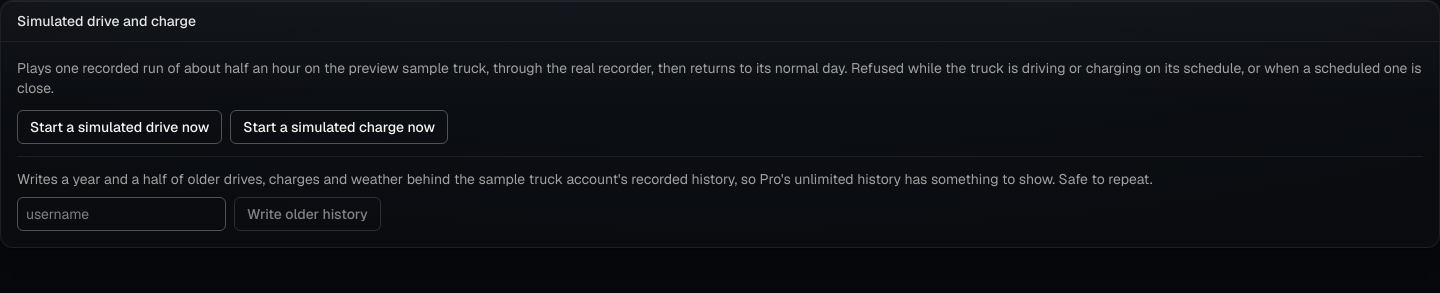
Test case: the preview's simulated drive and charge card › writes the older history for the typed account and says how much
This screenshot has width=1440, height=293.
Check: the button "Write older history" is disabled, box x1=234 y1=197 x2=381 y2=231
Type " sample-truck " into the field named "Sample truck username" at (122, 214), box x1=17 y1=197 x2=226 y2=231
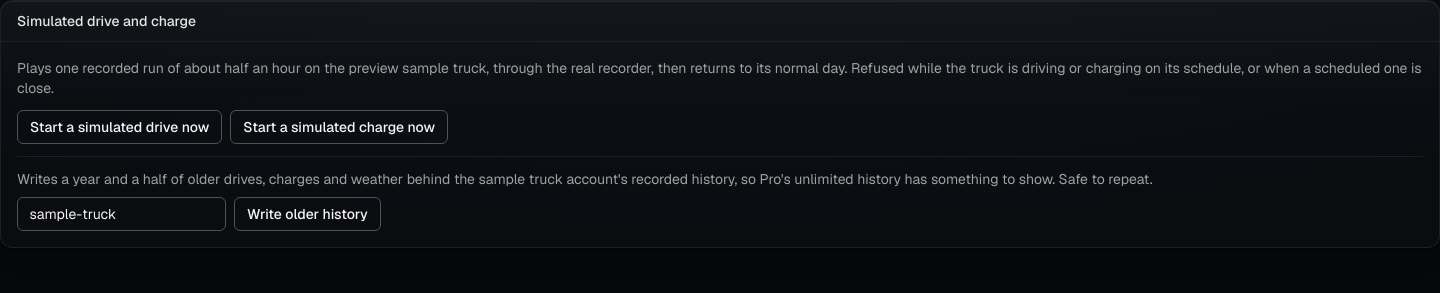
Click the button "Write older history" at (307, 214), box x1=234 y1=197 x2=381 y2=231
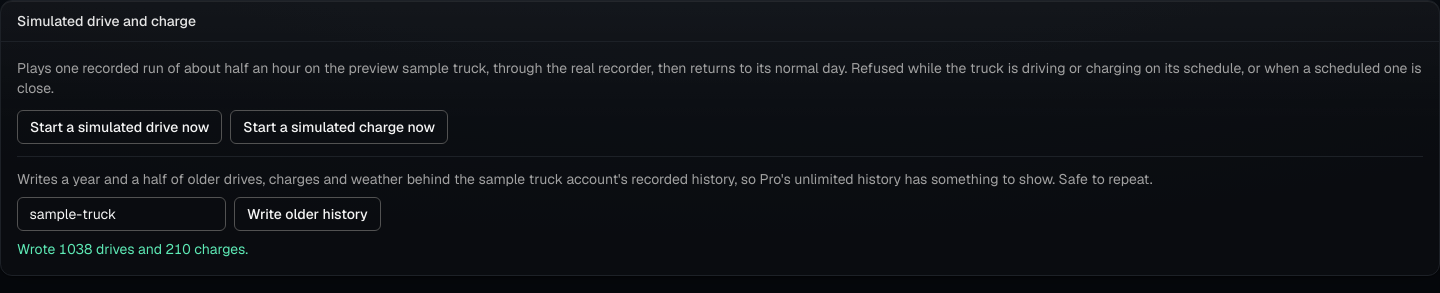
Check: the text "Wrote 1038 drives and 210 charges." is shown, box x1=17 y1=240 x2=248 y2=258
